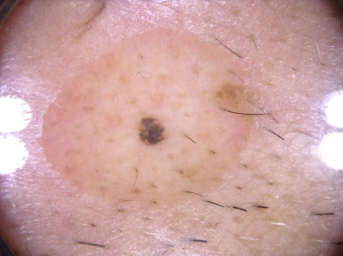seborrheic keratosis: (113, 93, 187, 168)
